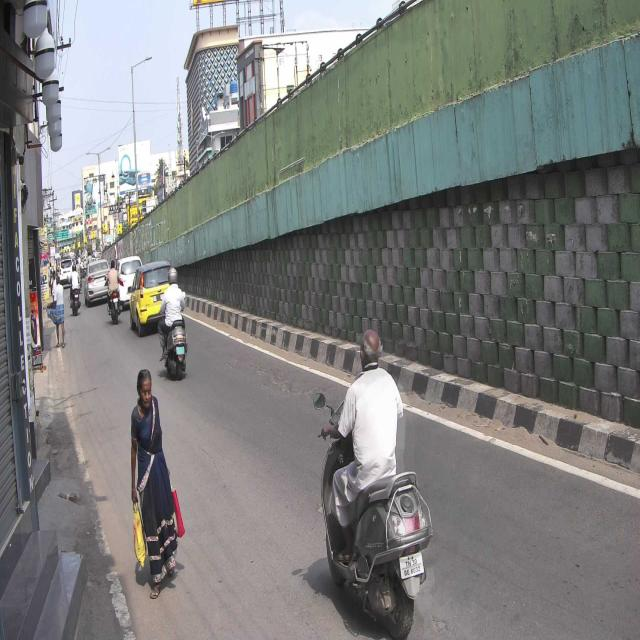single_rider: (314, 328, 433, 638), (157, 266, 190, 382)
